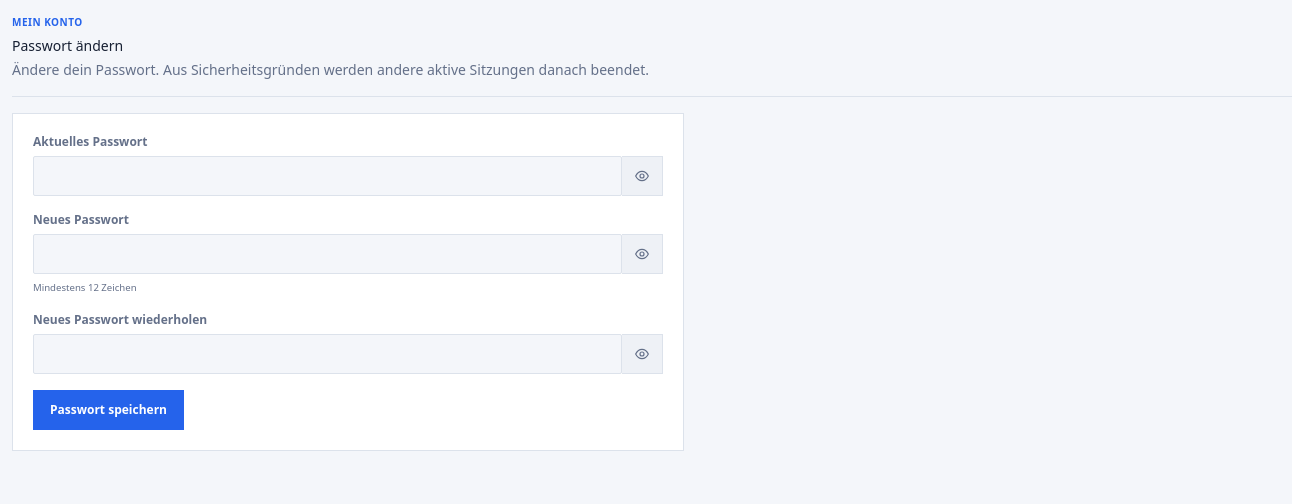
Test: account and admin pages › changes the signed-in user's password and confirms success
The width and height of the screenshot is (1292, 504).
Click the button "Passwort speichern". click: (108, 410)
box: [33,390,184,430]
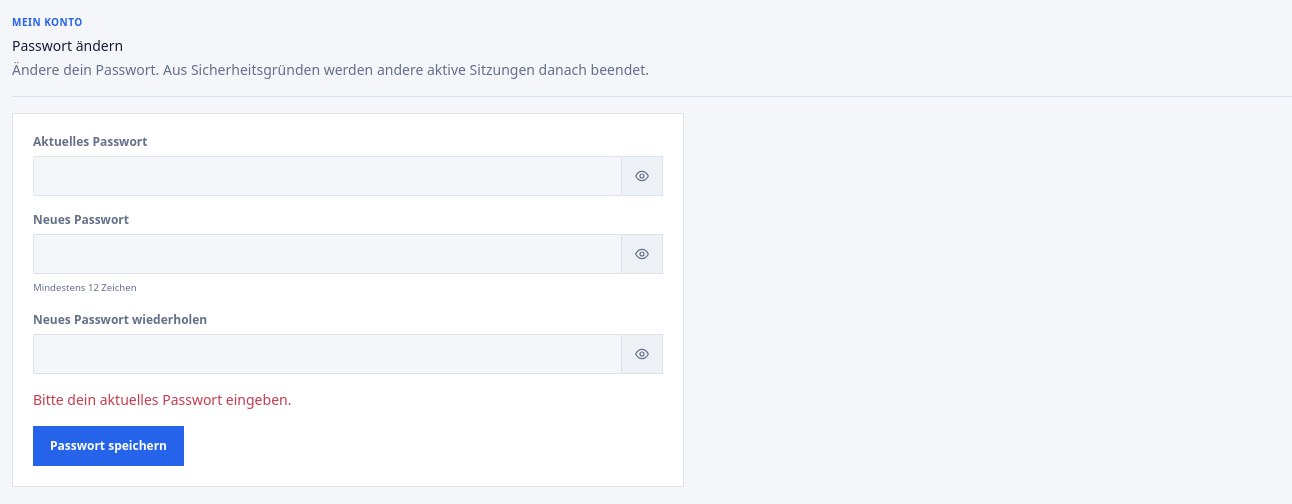
Check: the message shows "aktuelles Passwort eingeben", box [33,390,291,409]
Type "old-password" into the password field labelled "Aktuelles Passwort". click: (328, 176)
box: [33,156,622,196]
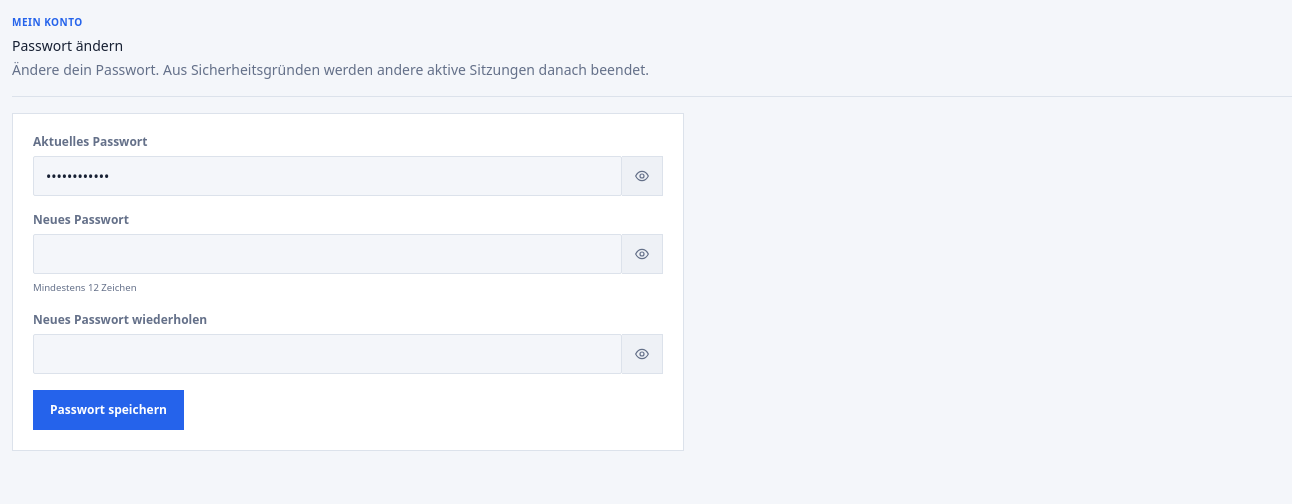
Click the 1st button named "Passwort anzeigen". click: (642, 176)
box: [622,156,663,196]
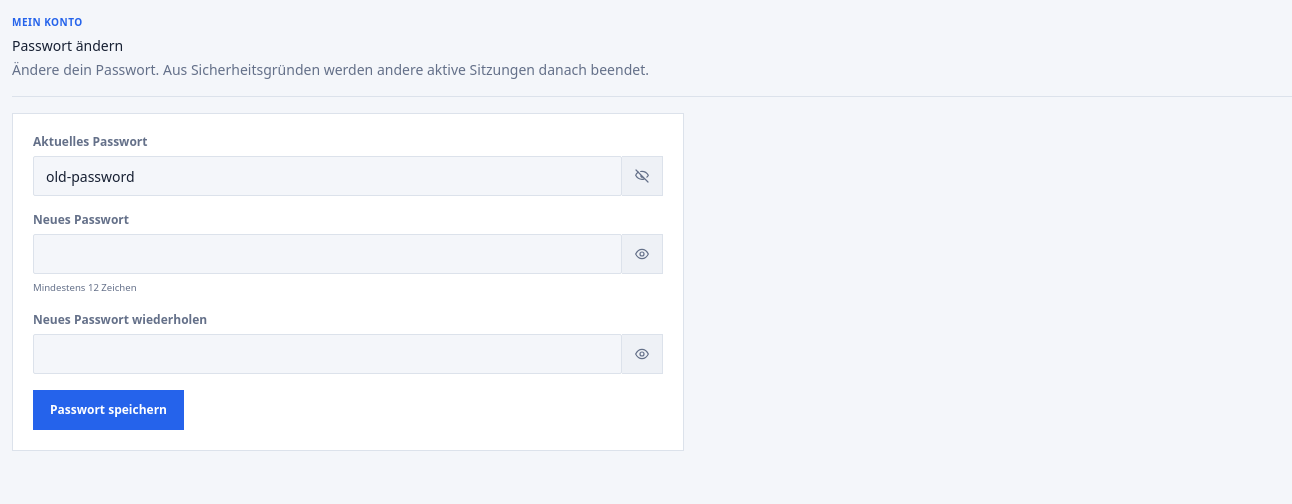
Check: the field labelled "Aktuelles Passwort" shows its text, box [33,156,622,196]
Click the button named "Passwort verbergen". click: (642, 176)
box: [622,156,663,196]
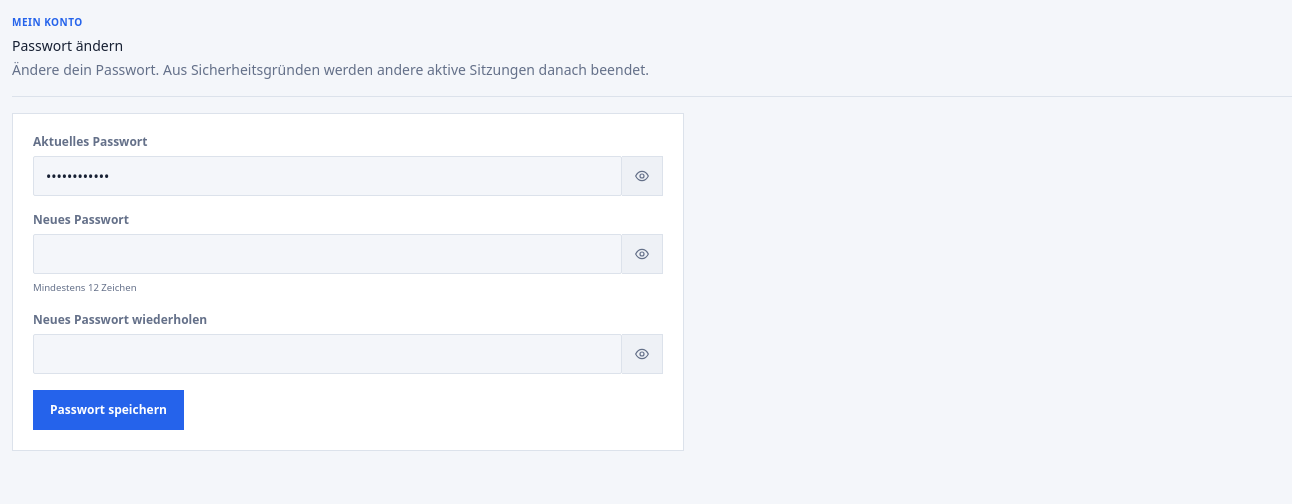
Check: the password field labelled "Aktuelles Passwort" hides its text, box [33,156,622,196]
Type "new-password-123" into the password field labelled "Neues Passwort Mindestens 12 Zeichen". click: (328, 254)
box: [33,234,622,274]
Type "new-password-123" into the password field labelled "Neues Passwort wiederholen". click: (328, 354)
box: [33,334,622,374]
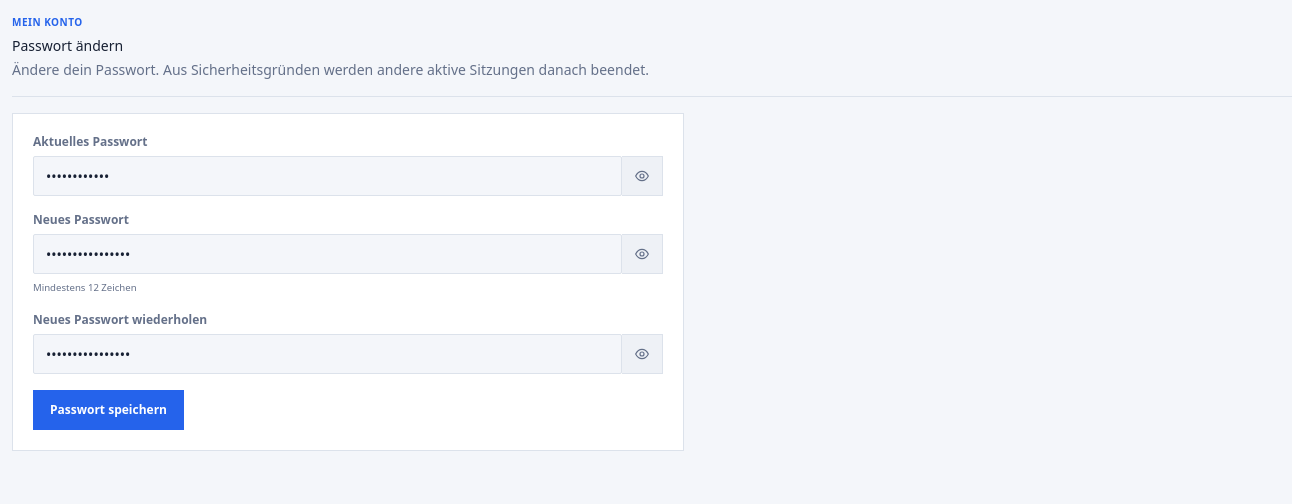
Click the button "Passwort speichern". click: (108, 410)
box: [33,390,184,430]
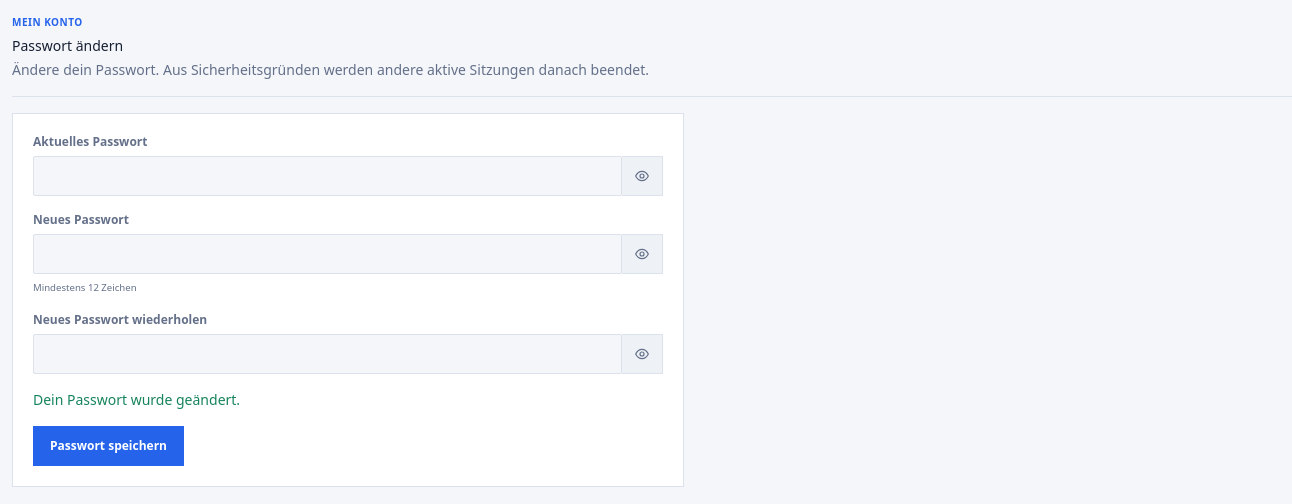
Check: the text "Dein Passwort wurde geändert." is shown, box [33,390,240,409]
